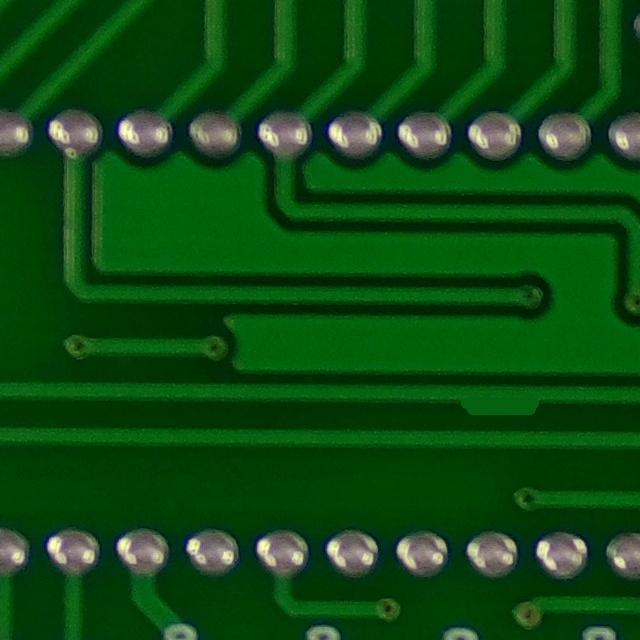spur: (443, 372, 550, 429)
